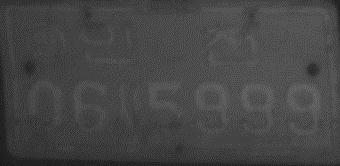0: (25, 80, 62, 131)
5: (146, 80, 183, 131)
6: (72, 79, 107, 133)
9: (285, 80, 321, 138), (193, 81, 229, 137), (240, 82, 276, 136)
사: (115, 83, 143, 134)
영: (30, 23, 65, 59)
인천_D: (80, 20, 260, 69)
